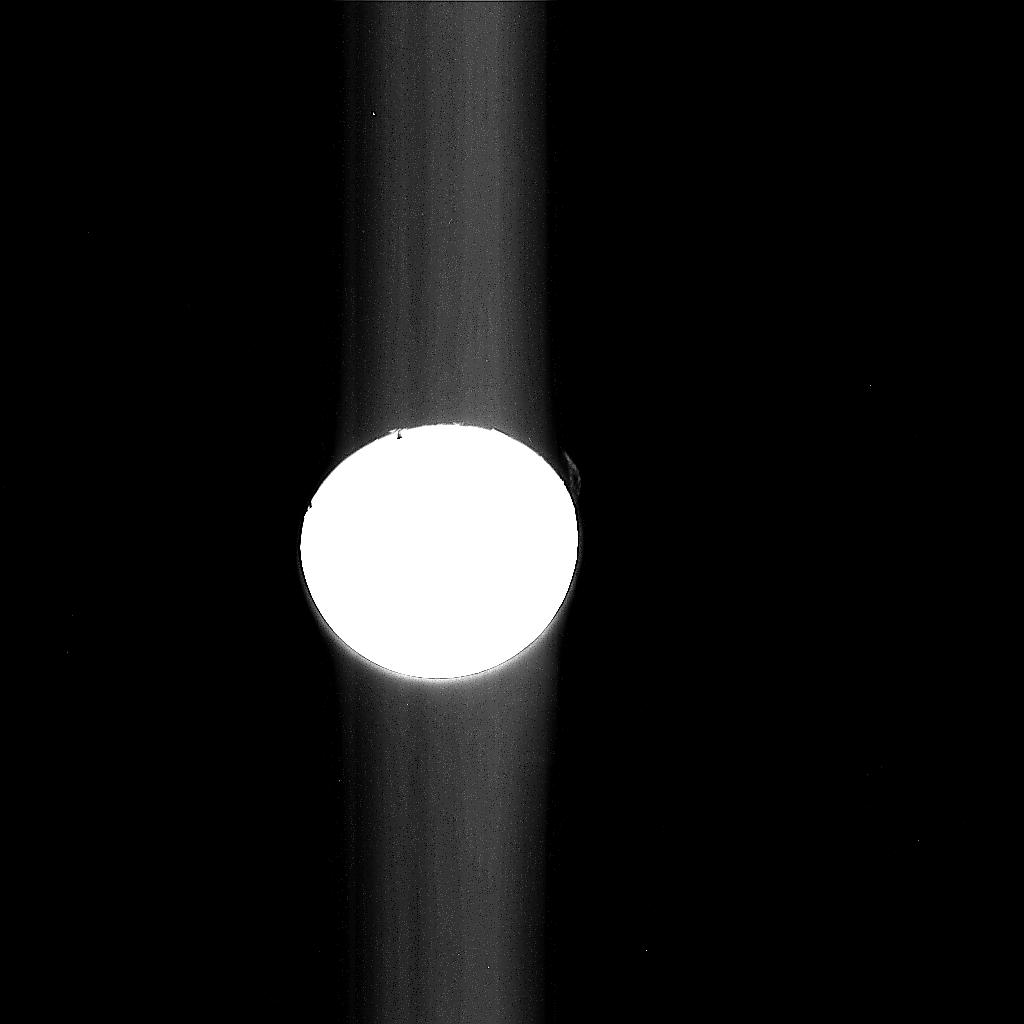plumes: (564, 453, 582, 505)
